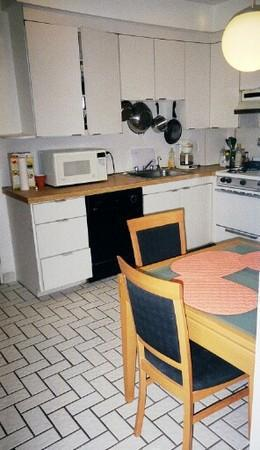Electrodomestico: (86, 187, 146, 276), (214, 176, 259, 236)
Lavaplatos: (126, 158, 191, 178)
